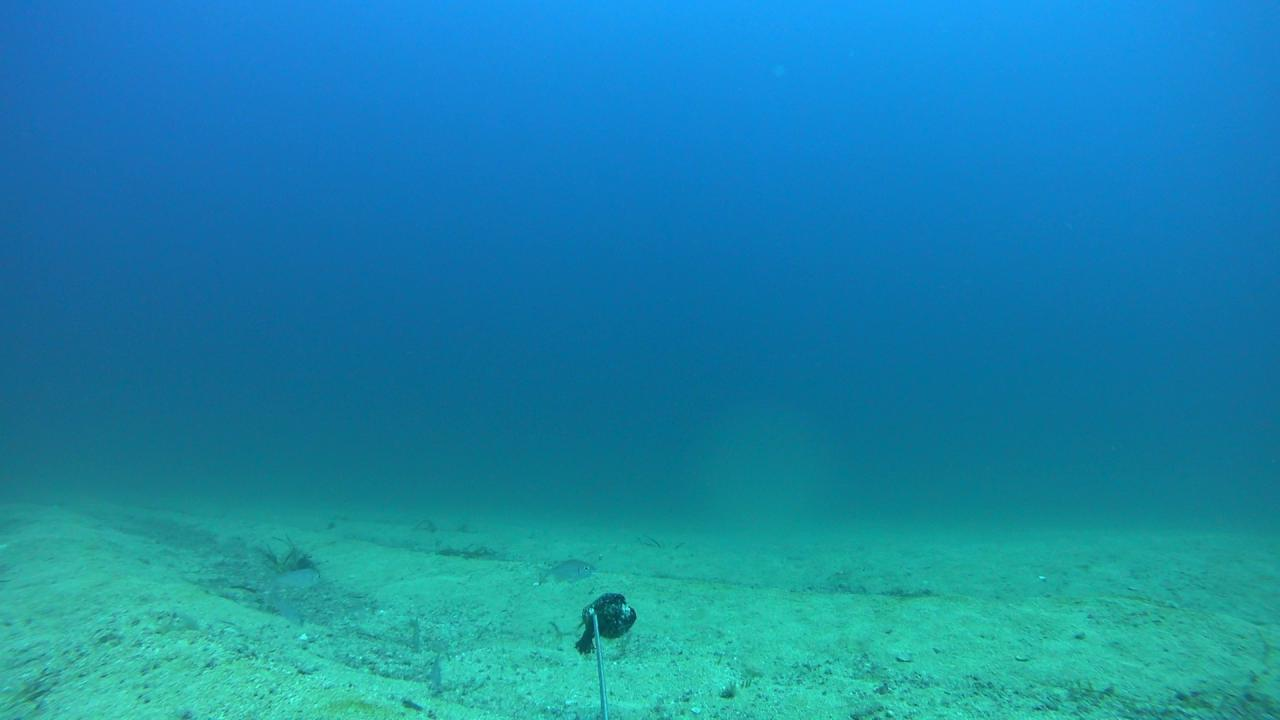pagellus: (535, 558, 595, 581), (267, 568, 324, 591)
